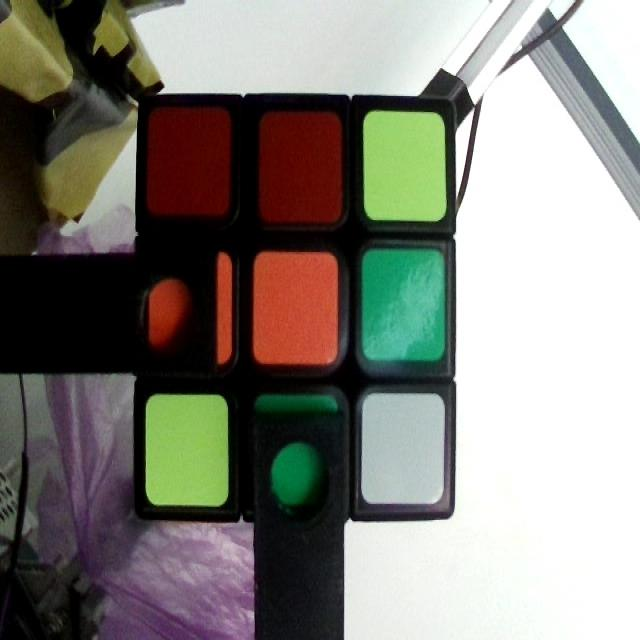g: (365, 248, 447, 360), (259, 397, 341, 507)
o: (255, 251, 334, 357), (152, 255, 228, 361)
r: (261, 113, 339, 220), (149, 107, 230, 208)
y: (363, 110, 446, 222), (361, 393, 446, 496), (148, 398, 229, 498)
